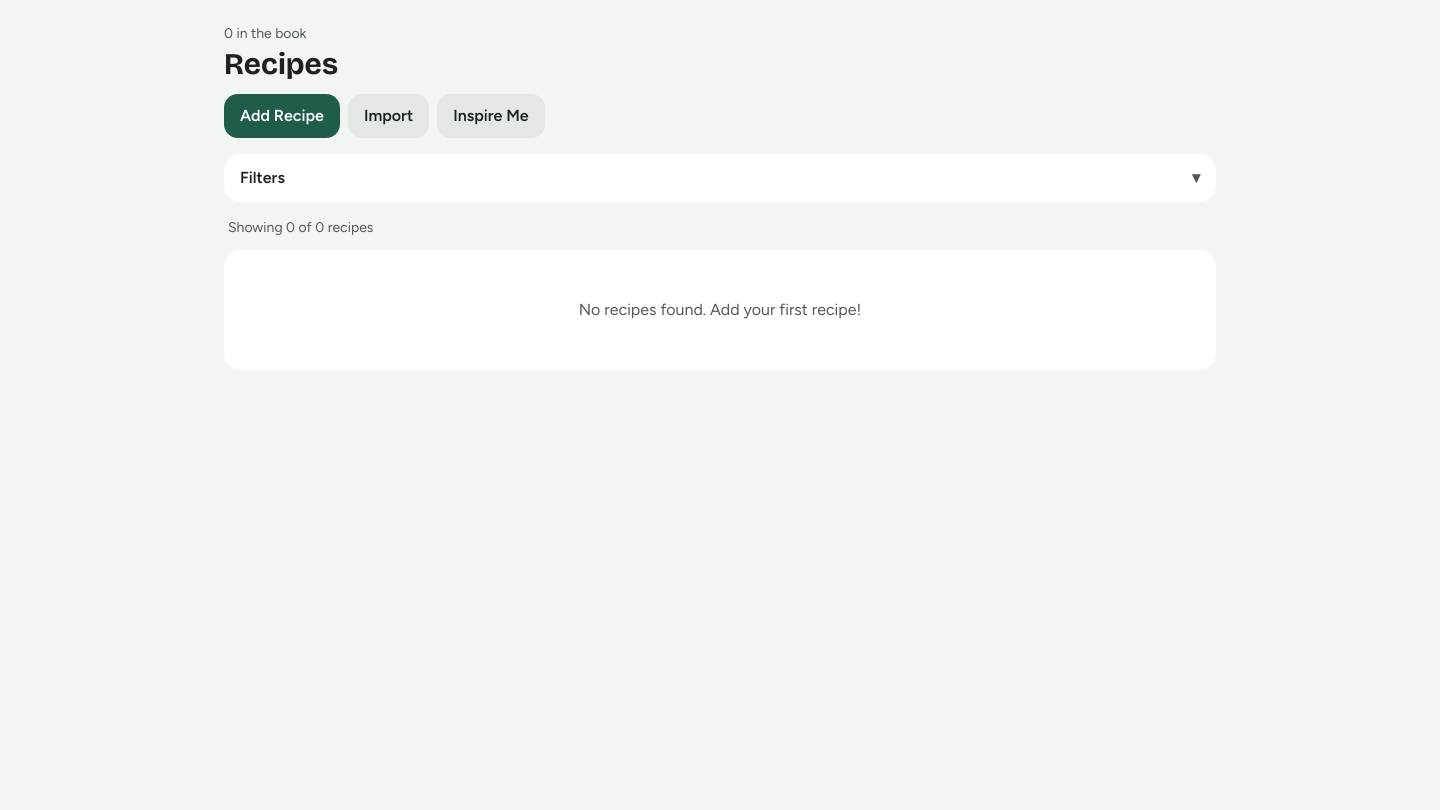
it: Inspire Me: accepting a suggestion › does not mark the suggestion as added when the review is discarded
Click the button "Inspire Me". click: (491, 116)
box: [437,94,545,138]
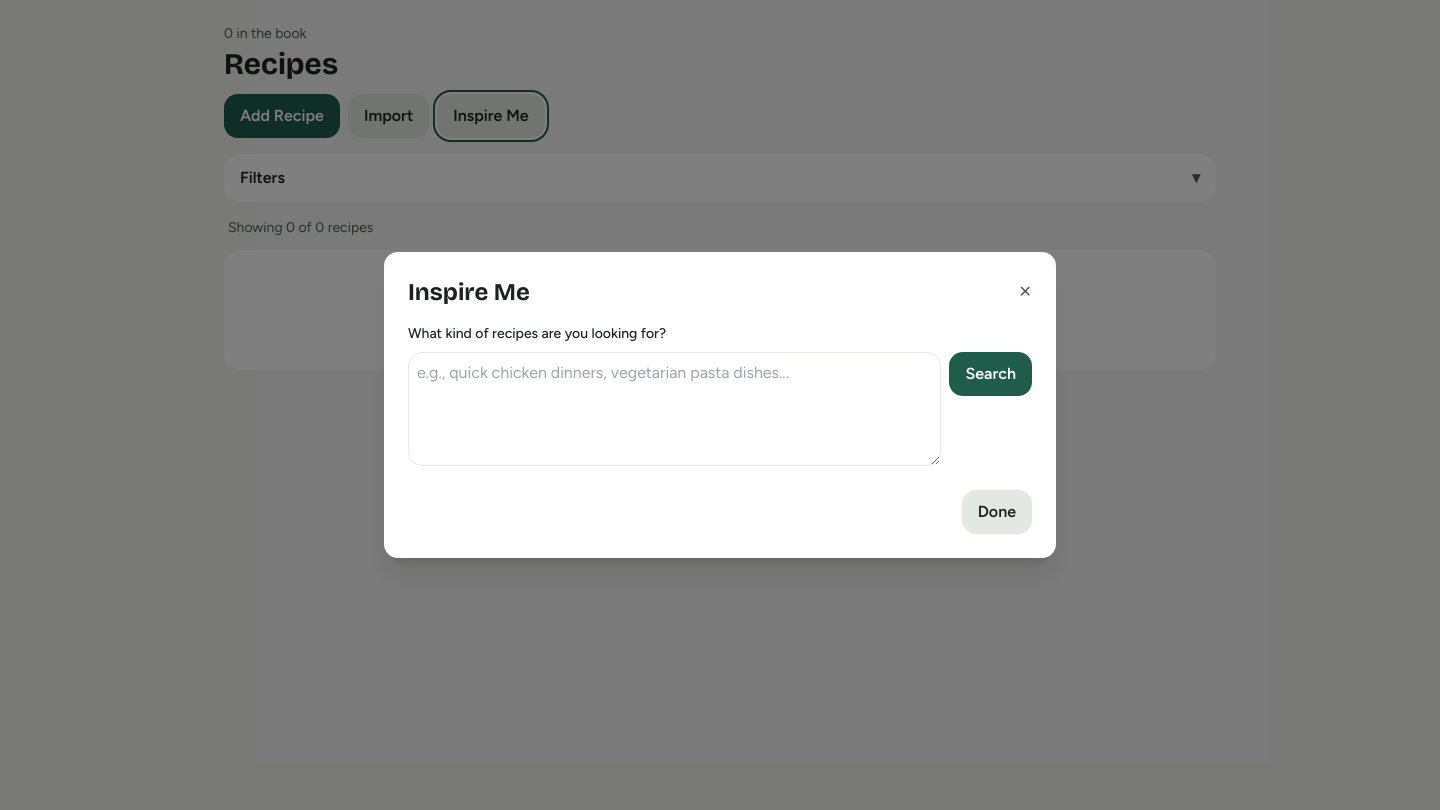
Type "chicken" into the text box with placeholder "e.g., quick chicken dinners, vegetarian pasta dishes...". click: (675, 409)
box: [408,352,942,466]
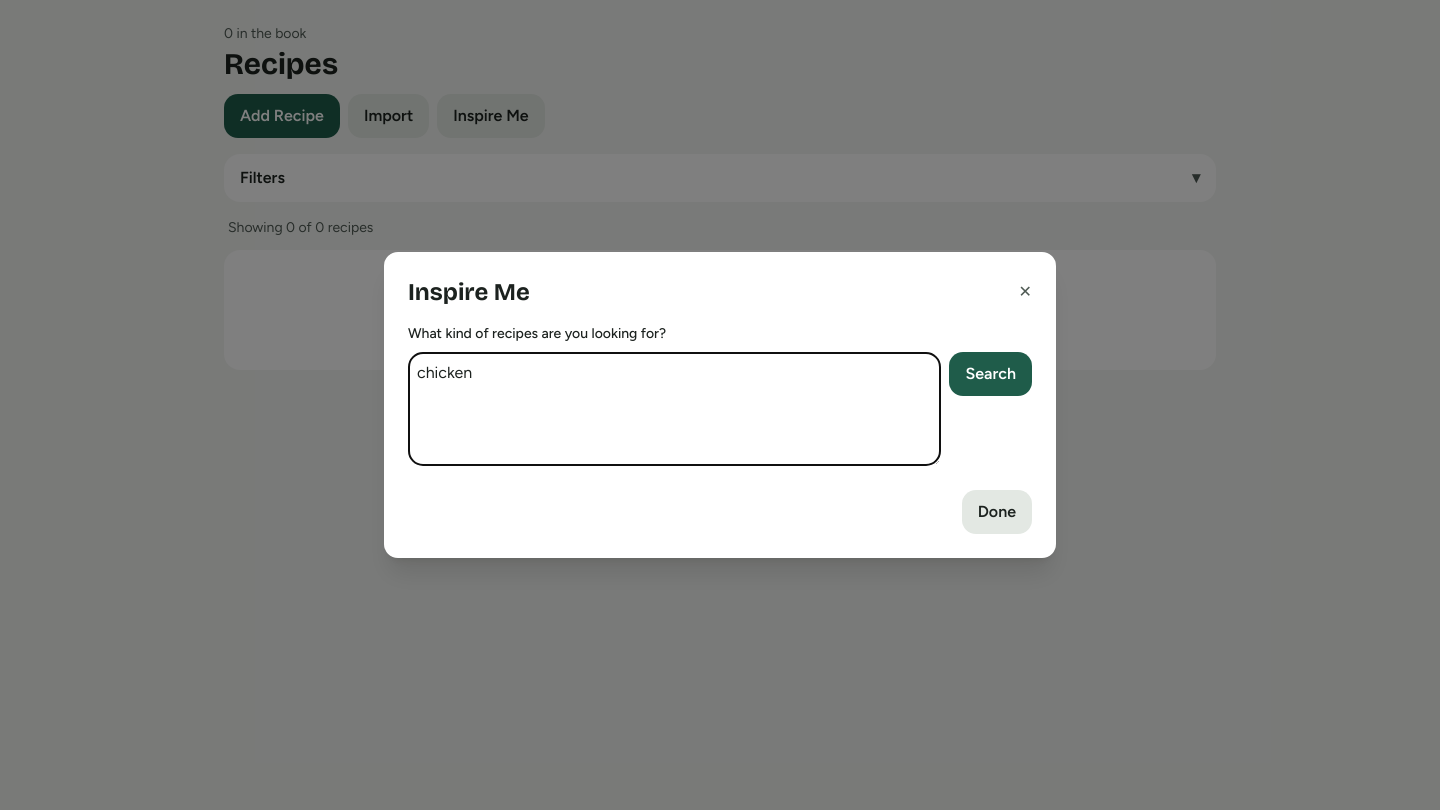
Click the button "Search". click: (991, 374)
box: [950,352,1032,396]
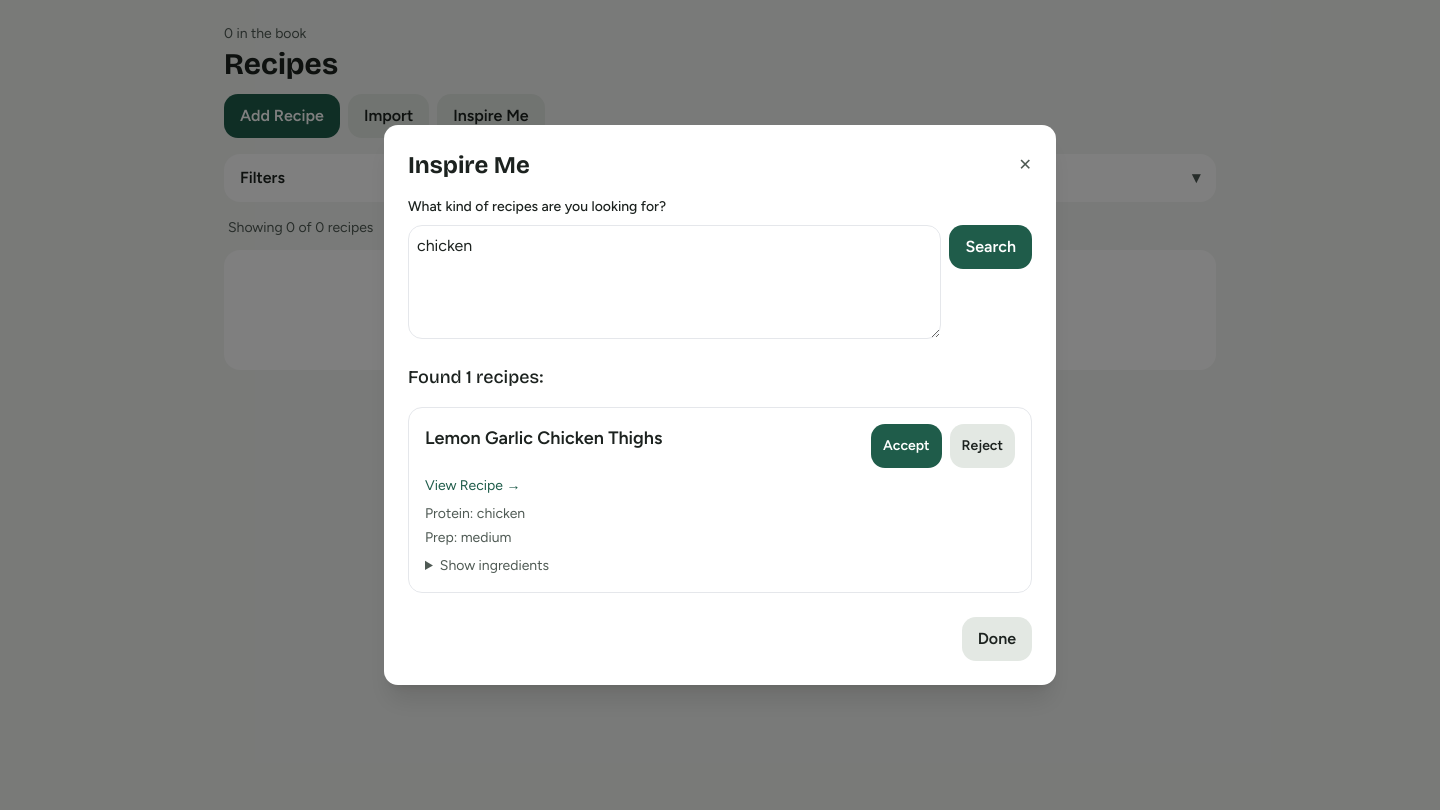
Now the button "Accept" is shown
Click the button "Accept". click: (906, 446)
box: [871,424,942,468]
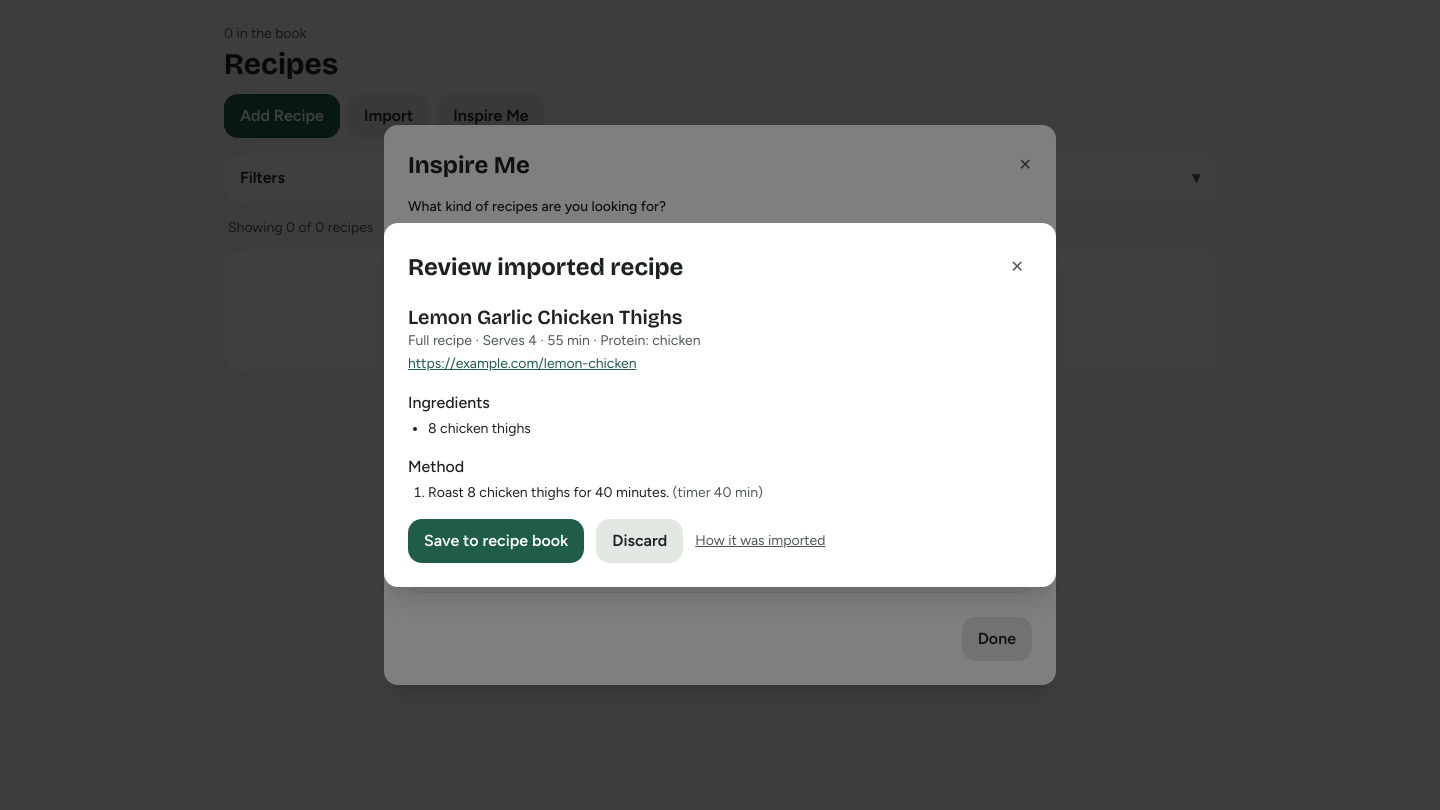
Now the heading "Review imported recipe" is shown, box [408,251,683,283]
Click the button "Discard". click: (640, 541)
box: [596,519,683,563]
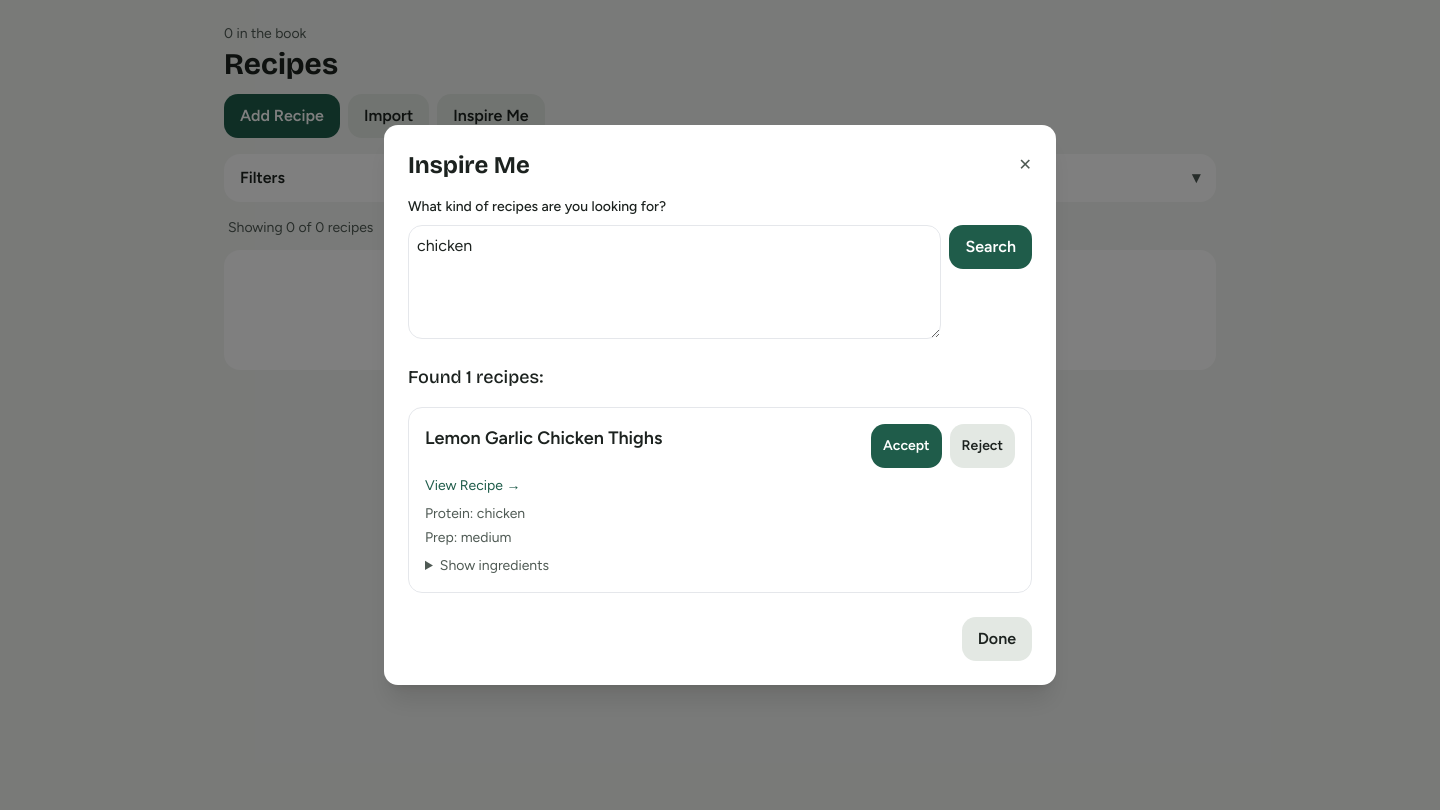
Now the button "Accept" is shown, box [871,424,942,468]
Now the heading "Review imported recipe" is gone
